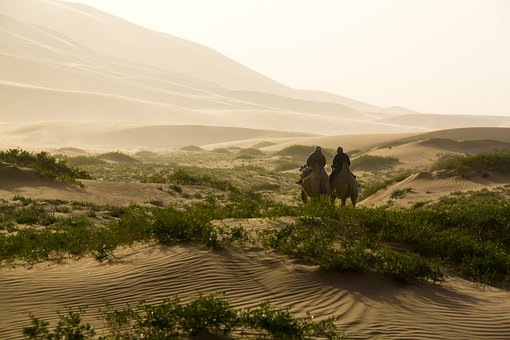field: (17, 137, 479, 340)
sky: (11, 4, 510, 125)
